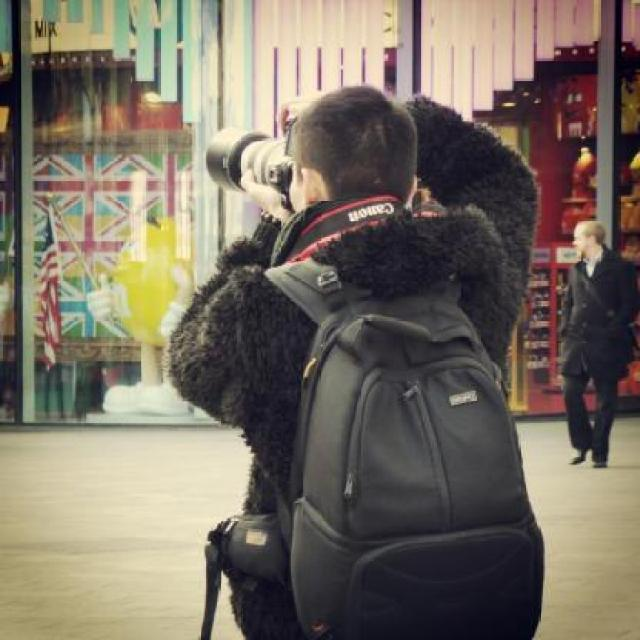backpack: (260, 249, 551, 640)
